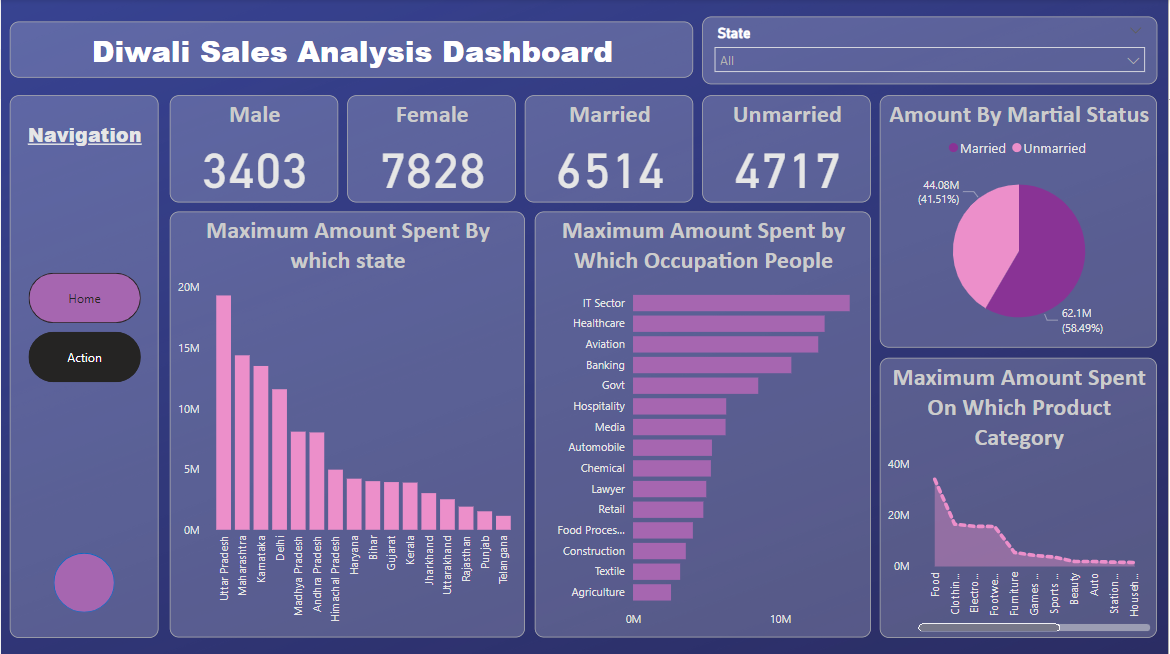

The page's visual inventory and layout, read from the dashboard file:
{"tool":"powerbi","page":{"name":"Action","canvas":[1280,720],"ordinal":1},"visuals":[{"type":"textbox","box":[9.6,24.7,750,61.7],"z":0},{"type":"textbox","box":[9.6,105.6,163.2,595],"z":1000},{"type":"pageNavigator","box":[30.2,300.3,123.4,120.7],"z":2000},{"type":"shape","box":[57.6,607.4,67.2,65.8],"z":3000},{"type":"textbox","box":[19.2,128.9,145.3,41.1],"z":4000},{"type":"card","title":"Male","fields":{"Values":["All measures.Male"]},"box":[185.1,105.6,185.1,117.9],"z":5000},{"type":"card","title":"Female","fields":{"Values":["All measures.Female"]},"box":[379.8,105.6,185.1,117.9],"z":6000},{"type":"card","title":"Unmarried","fields":{"Values":["All measures.Unmarried"]},"box":[769.2,105.6,185.1,117.9],"z":7000},{"type":"card","title":"Married","fields":{"Values":["All measures.Married"]},"box":[574.5,105.6,185.1,117.9],"z":8000},{"type":"barChart","title":"Maximum Amount Spent by Which Occupation People","fields":{"Category":["Diwali Sales Data 1.Occupation"],"Y":["Sum(Diwali Sales Data 1.Amount)"]},"box":[585.4,233.1,368.8,467.5],"z":10000},{"type":"areaChart","title":"Maximum Amount Spent On Which Product Category","fields":{"Category":["Diwali Sales Data 1.Product_Category"],"Y":["Sum(Diwali Sales Data 1.Amount)"]},"box":[963.8,393.5,304.4,307.1],"z":11000},{"type":"columnChart","title":"Maximum Amount Spent By which state","fields":{"Category":["Diwali Sales Data 1.State"],"Y":["Sum(Diwali Sales Data 1.Amount)"]},"box":[185.1,233.1,389.4,467.5],"z":12000},{"type":"slicer","fields":{"Values":["Diwali Sales Data 1.State"]},"box":[769.2,19.2,499.1,74],"z":13000},{"type":"pieChart","title":"Amount By Martial Status","fields":{"Category":["Diwali Sales Data 1.Marital_Status"],"Y":["Sum(Diwali Sales Data 1.Amount)"]},"box":[963.8,105.6,304.4,277],"z":13001}]}

Visuals, with their boxes in screenshot pixels (x1, y1, x2, y2), scaled from the page's 1280x720 canvas onto the 1170x654 screenshot:
textbox: l=9, t=22, r=694, b=78
textbox: l=9, t=96, r=158, b=636
pageNavigator: l=28, t=273, r=140, b=382
shape: l=53, t=552, r=114, b=611
textbox: l=18, t=117, r=150, b=154
"Male" card: l=169, t=96, r=338, b=203
"Female" card: l=347, t=96, r=516, b=203
"Unmarried" card: l=703, t=96, r=872, b=203
"Married" card: l=525, t=96, r=694, b=203
"Maximum Amount Spent by Which Occupation People" barChart: l=535, t=212, r=872, b=636
"Maximum Amount Spent On Which Product Category" areaChart: l=881, t=357, r=1159, b=636
"Maximum Amount Spent By which state" columnChart: l=169, t=212, r=525, b=636
slicer - Diwali Sales Data 1.State: l=703, t=17, r=1159, b=85
"Amount By Martial Status" pieChart: l=881, t=96, r=1159, b=348
